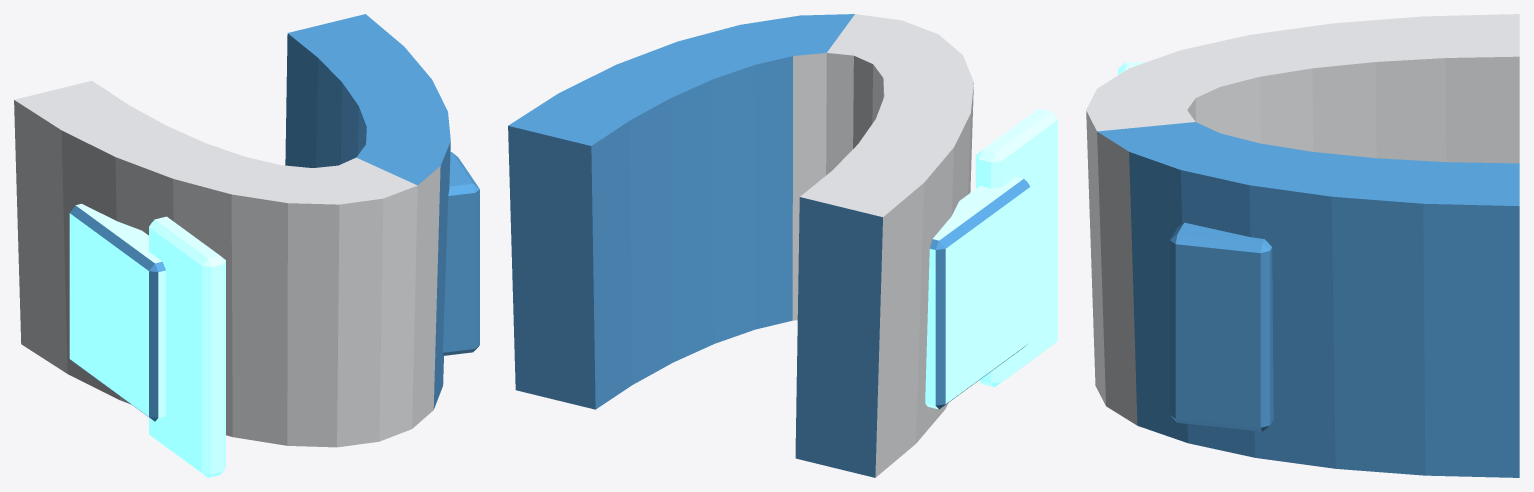
File: right_shoulder__sleek.glb
The picture shows the model from 3 angles, left to right: view 1: azimuth 30°, elevation 25°; view 2: azimuth 150°, elevation 25°; view 3: azimuth 270°, elevation 25°; orthographic projection. The views are drawn at different scales.
Parts seen in each view (by area): view 1: armor_right_shoulder__sleek_v001; view 2: armor_right_shoulder__sleek_v001; view 3: armor_right_shoulder__sleek_v001.
Part boxes in pixels (left/top/right/bottom): armor_right_shoulder__sleek_v001: left=14, top=14, right=479, bottom=477; armor_right_shoulder__sleek_v001: left=508, top=14, right=1057, bottom=477; armor_right_shoulder__sleek_v001: left=1086, top=14, right=1519, bottom=477.
Size of the model in its own units: 0.1772 by 0.1216 by 0.1682.
